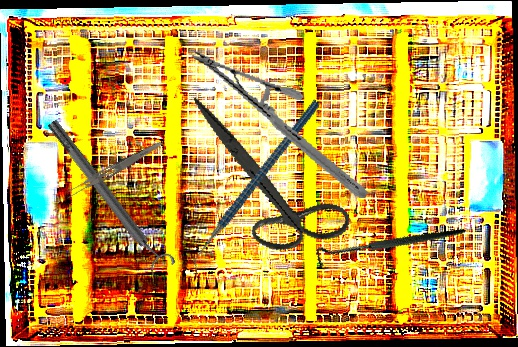Chopper: (150, 98, 362, 279)
Dressing Forceps: (62, 136, 164, 202)
Fixation Ring: (41, 112, 177, 280)
Hook Surgical: (311, 186, 467, 309)
Iris Scissors: (160, 97, 371, 268)
Needle Holder: (171, 50, 388, 199)
